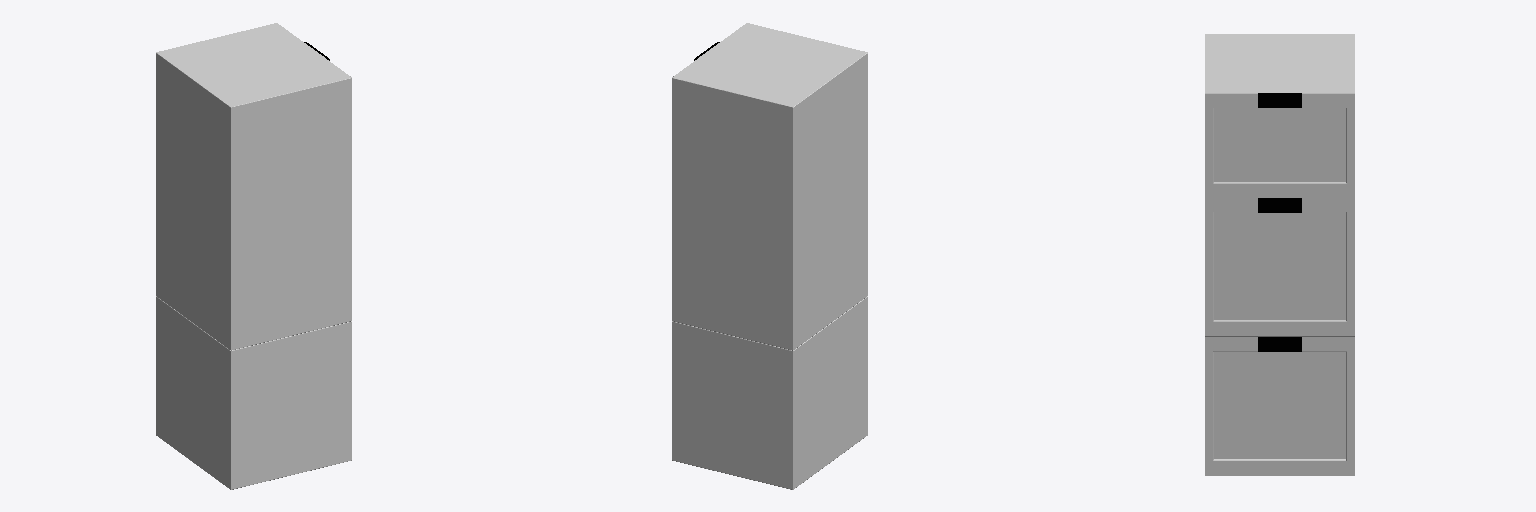
File: left_pl.obj
3 views of the same model, side by side, from view 1: azimuth 30°, elevation 25°; view 2: azimuth 150°, elevation 25°; view 3: azimuth 270°, elevation 25° (orthographic).
Visible parts, largest first — view 1: Cube_Cube.001; view 2: Cube_Cube.001; view 3: Cube_Cube.001.
Boxes of the visible parts, <box> form: Cube_Cube.001: <box>156,23,351,489</box>; Cube_Cube.001: <box>672,23,867,489</box>; Cube_Cube.001: <box>1205,34,1354,475</box>.
Size of the model in its own units: 164 by 478 by 170.